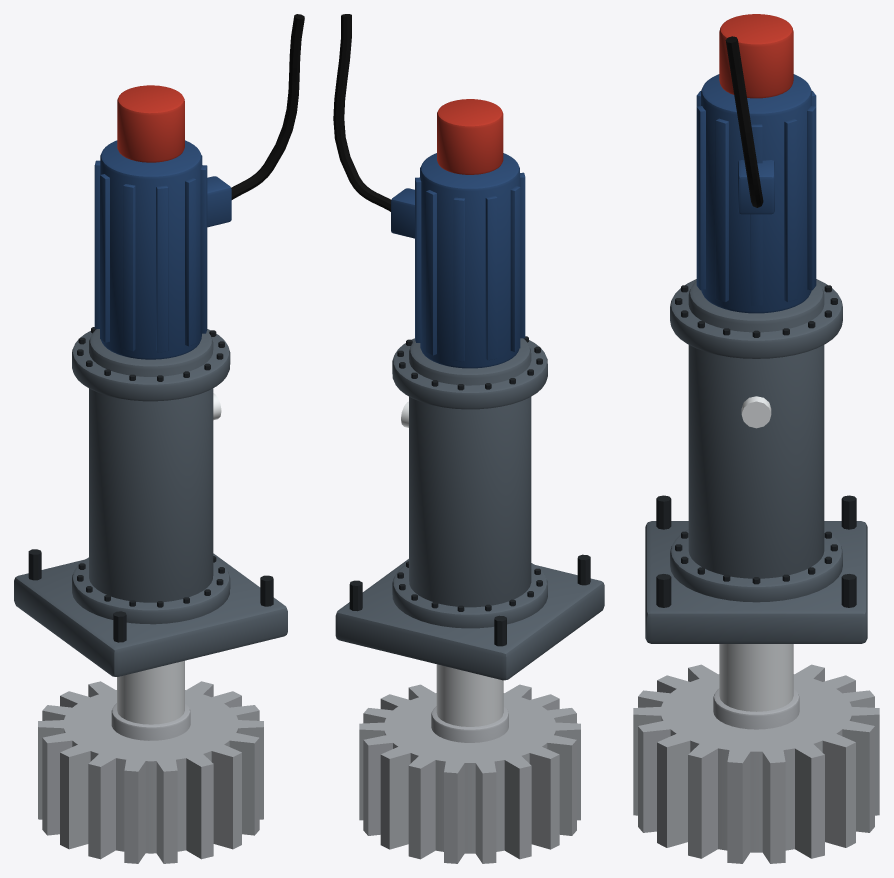
The model's file is slewdrive.glb.
The picture shows the model from 3 angles, left to right: view 1: azimuth 30°, elevation 25°; view 2: azimuth 150°, elevation 25°; view 3: azimuth 270°, elevation 25°; orthographic projection. The views are drawn at different scales.
Parts seen in each view (by area): view 1: drivebody, pinion; view 2: drivebody, pinion; view 3: drivebody, pinion.
Part boxes in pixels (box(x1,y1,x2,y2)): drivebody: box(14, 14, 304, 676); pinion: box(38, 660, 263, 863); drivebody: box(333, 14, 604, 680); pinion: box(359, 664, 580, 863); drivebody: box(645, 14, 867, 643); pinion: box(633, 644, 879, 863).
Size of the model in its own units: 2.45 by 7.69 by 2.
